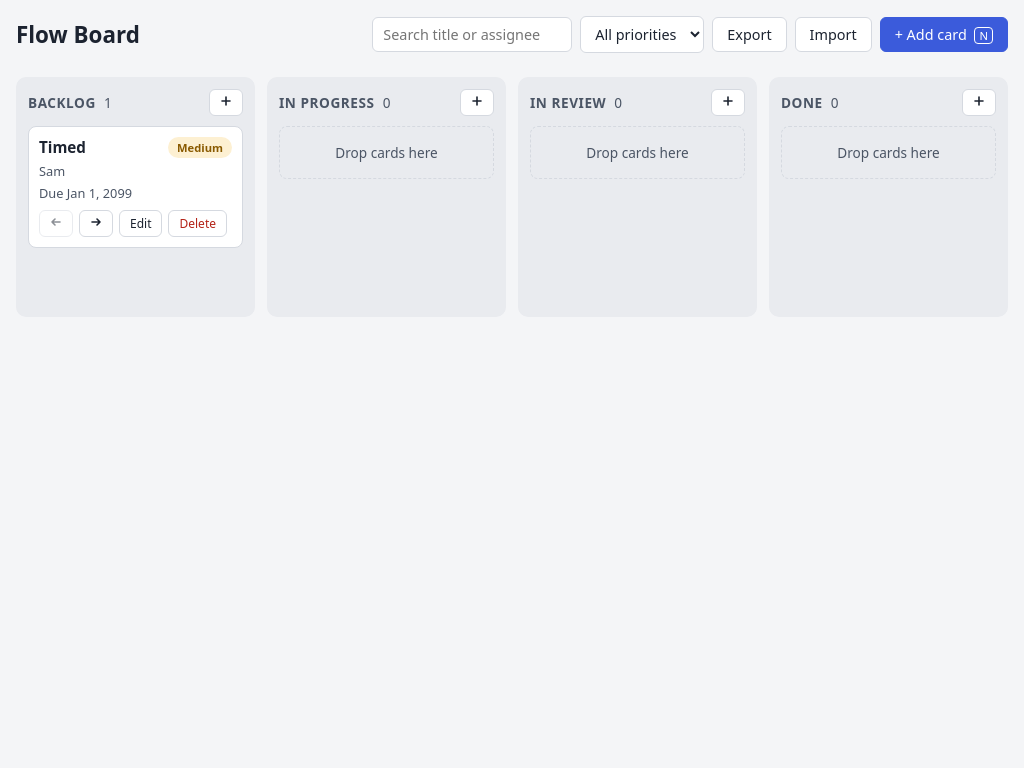
Test case: deleting cards (audit: undo) › undo toast timing (WCAG 2.2.1) › pauses while hovered and resumes afterwards
Click the button named "Delete \"Timed\"". click: point(198, 224)
box: 168,210 -> 227,237
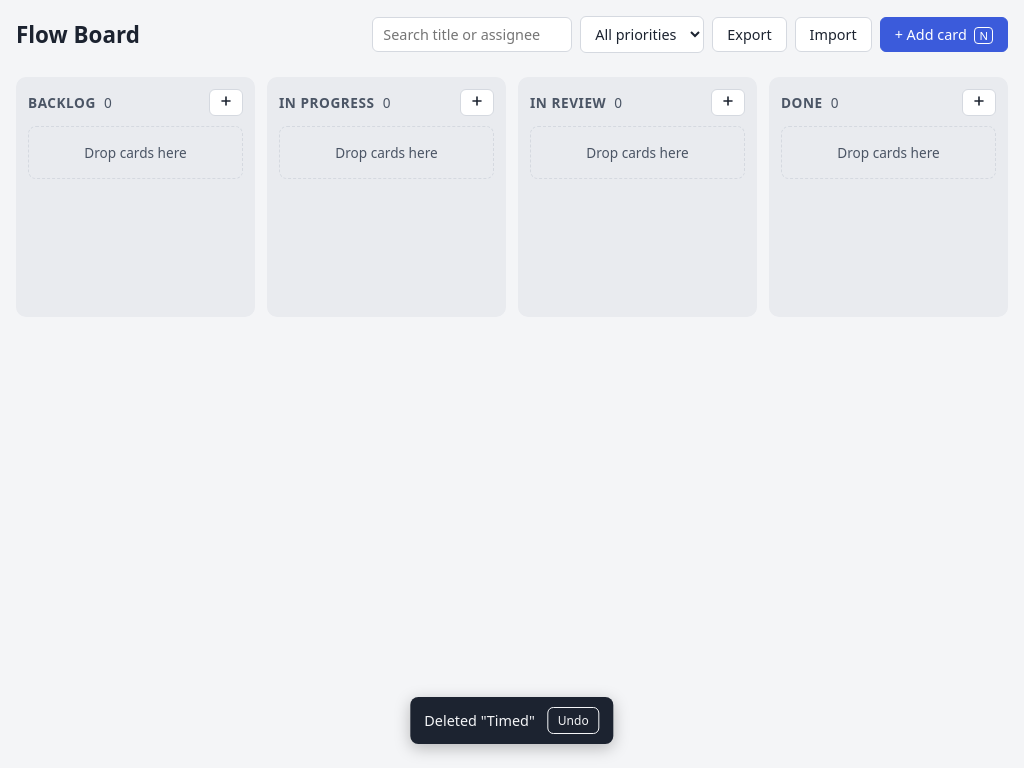
Hover over the message "Deleted \"Timed\" Undo" at point(512, 720), box 410,697 -> 614,744
Now the message "Deleted \"Timed\" Undo" is shown
Move the pointer off the message "Deleted \"Timed\" Undo", box 410,697 -> 614,744
Wait 10500 ms
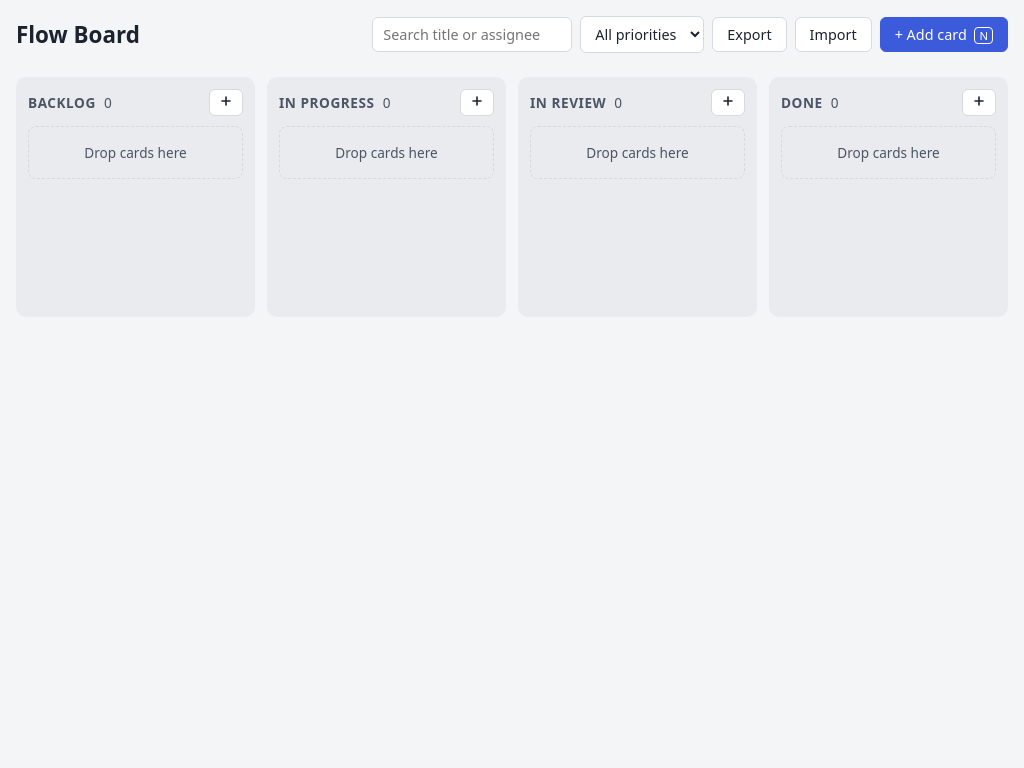
Now the message "Deleted \"Timed\" Undo" is gone
